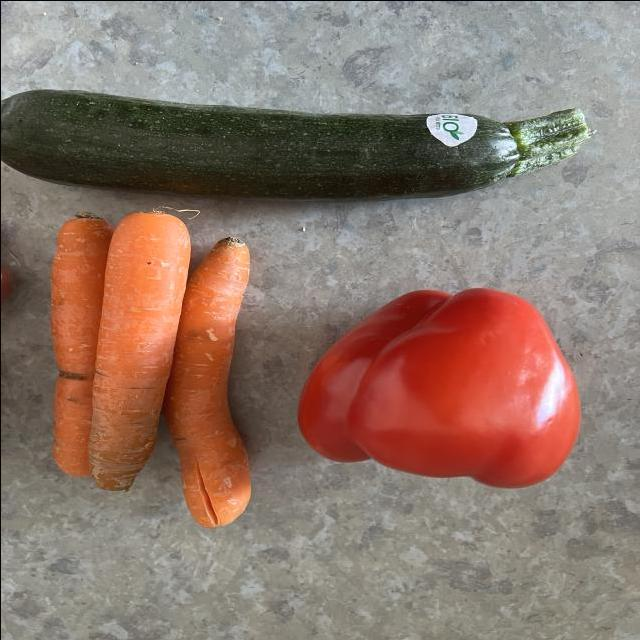carrot: (83, 205, 190, 502), (171, 236, 266, 530), (43, 204, 100, 483)
zucchini: (1, 65, 612, 216)
